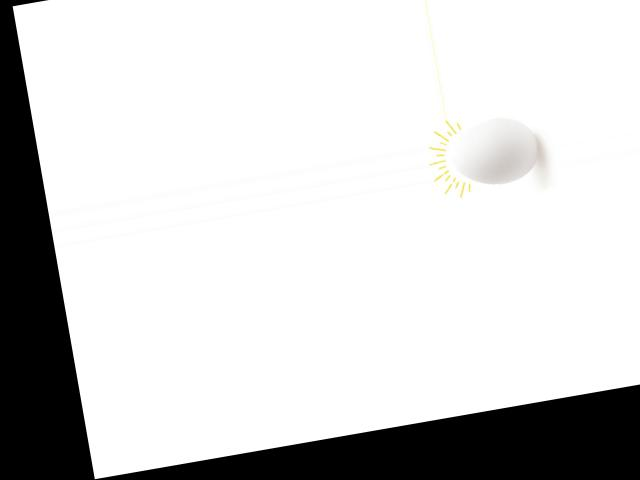egg: (446, 111, 542, 190)
